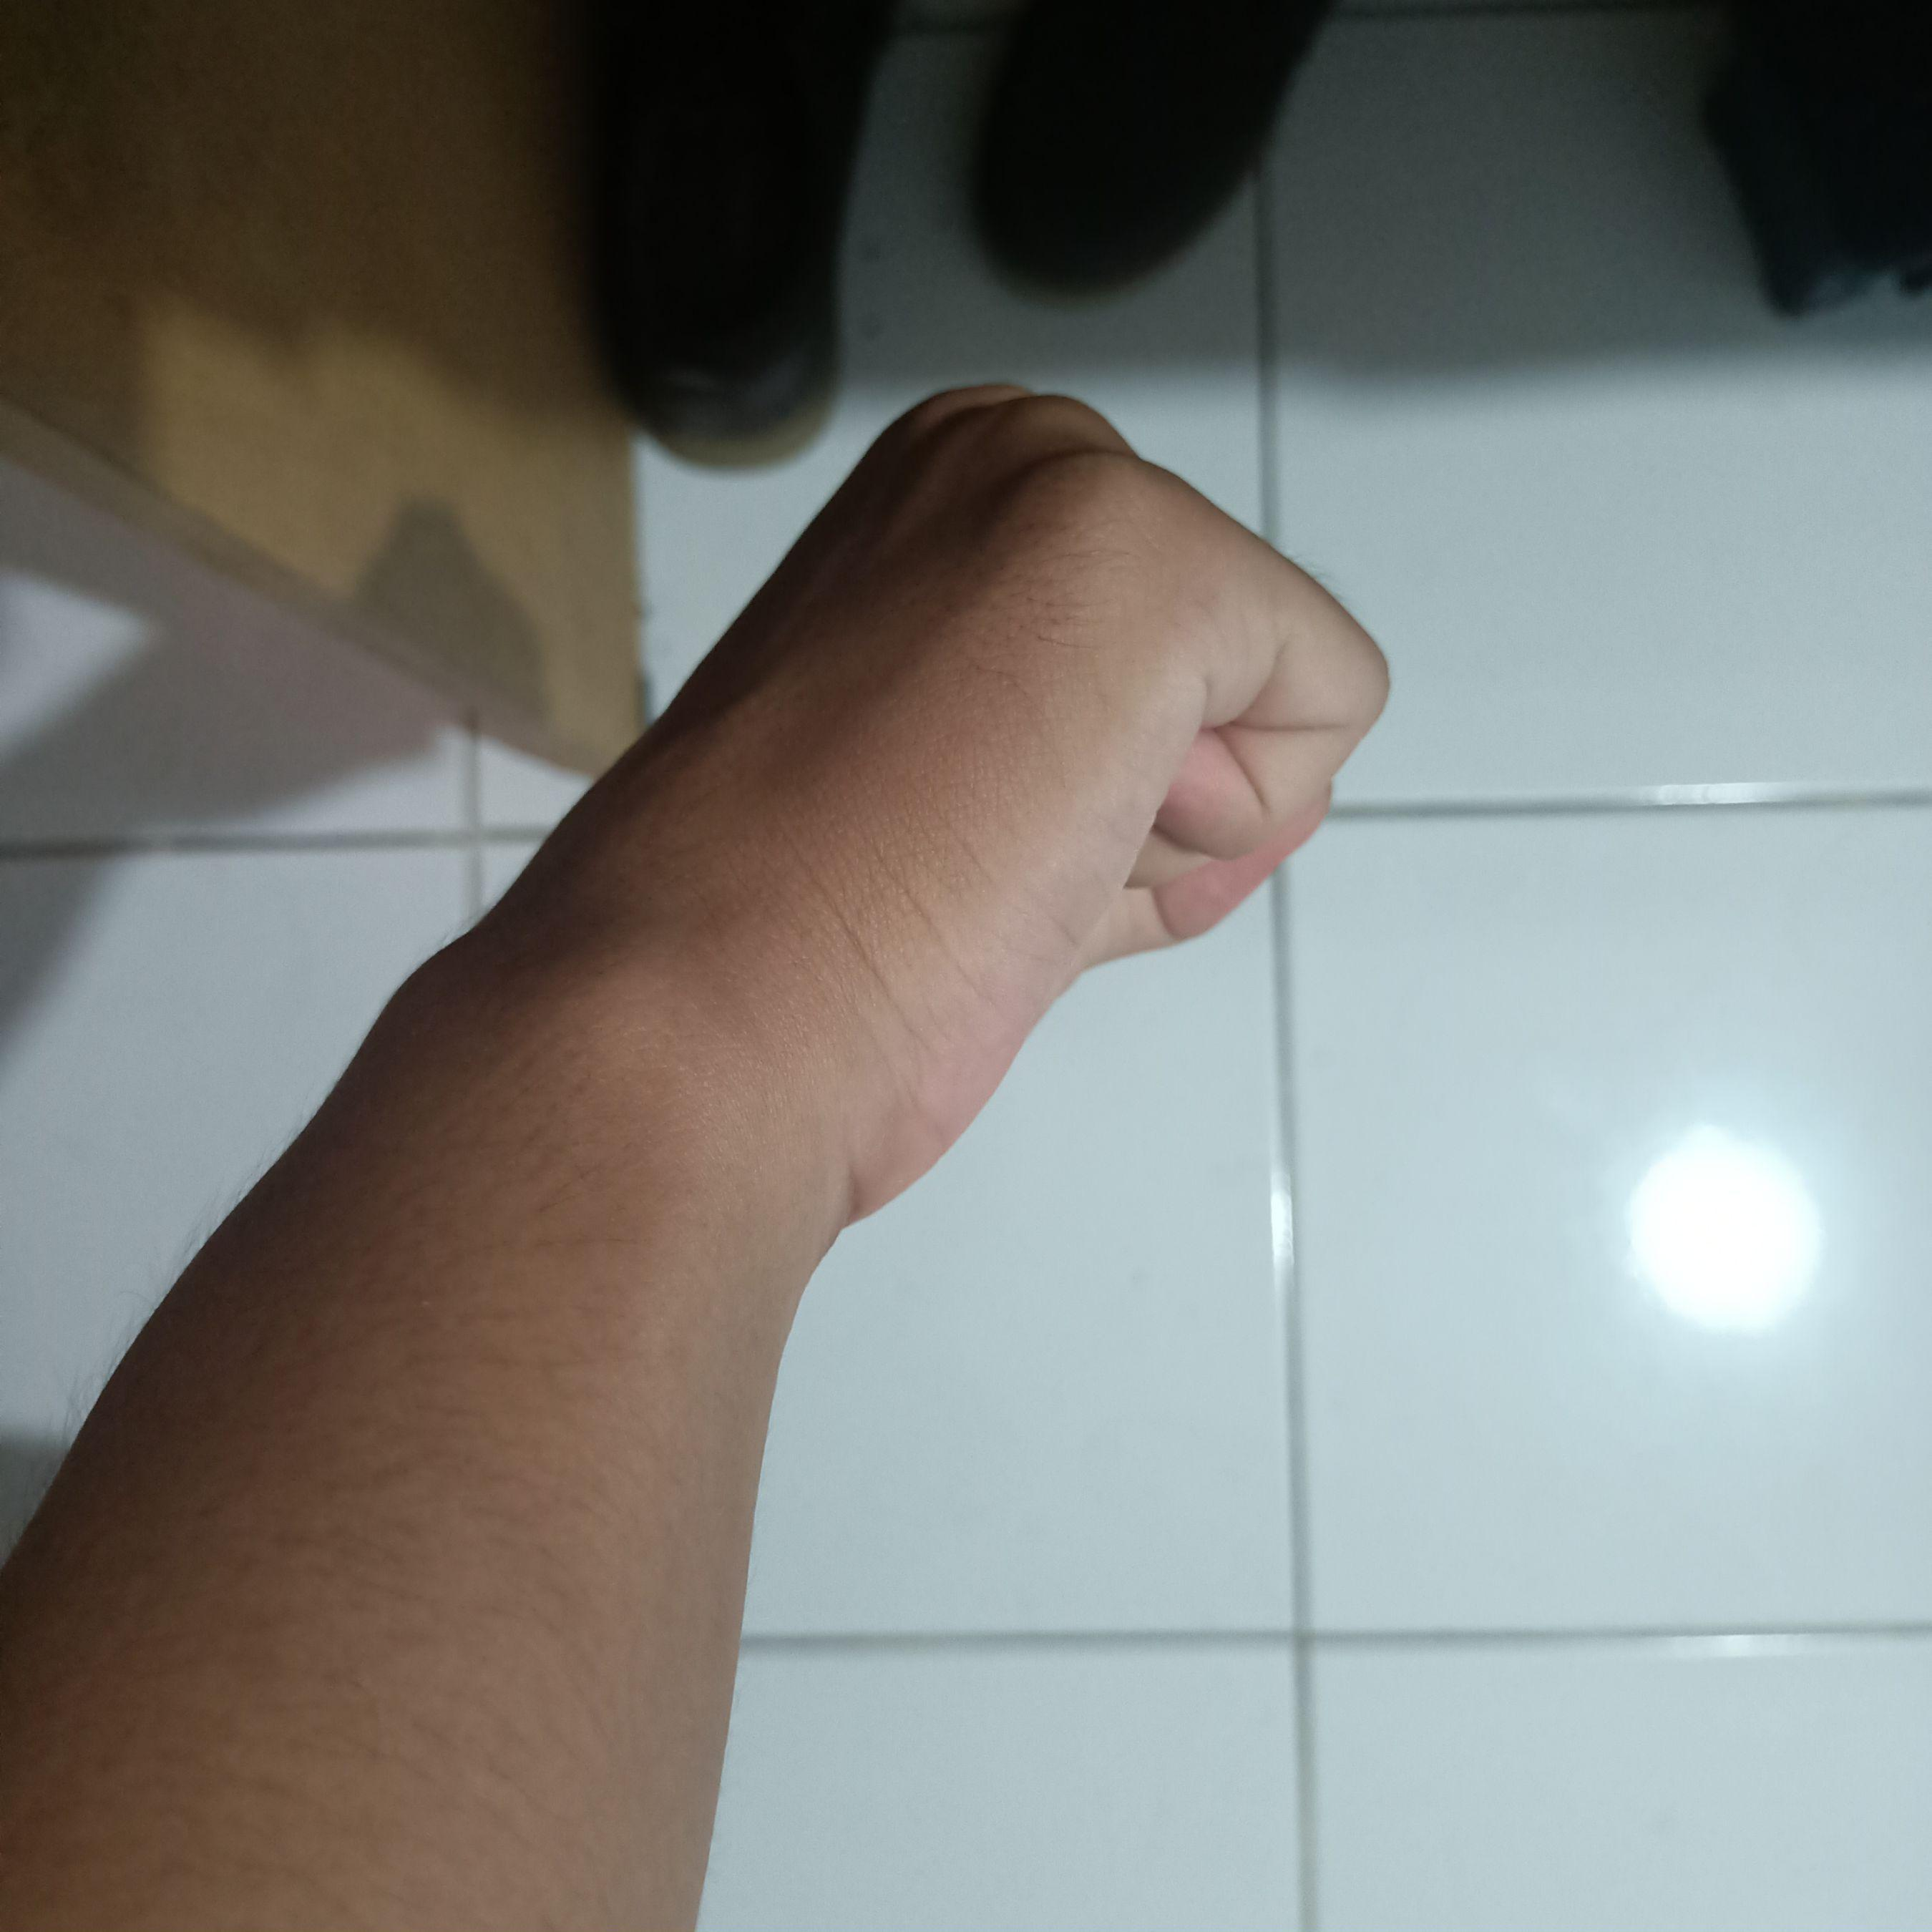rock: (363, 343, 1422, 1295)
